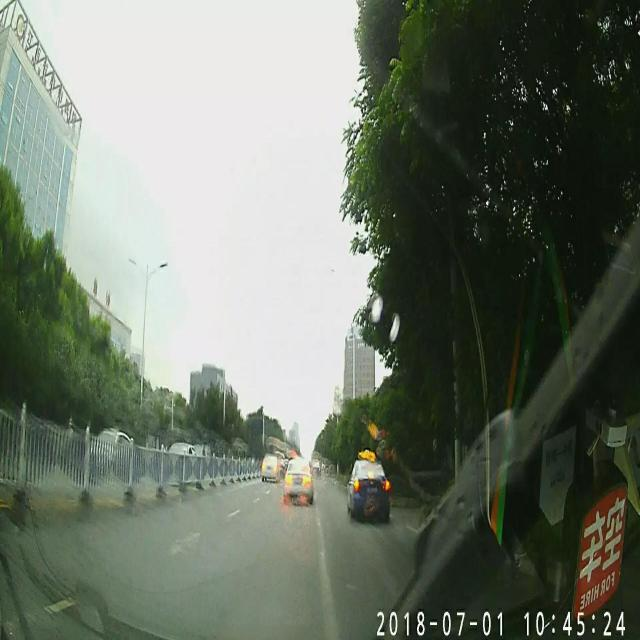car: (343, 450, 392, 522), (280, 452, 314, 502), (258, 449, 282, 482)
